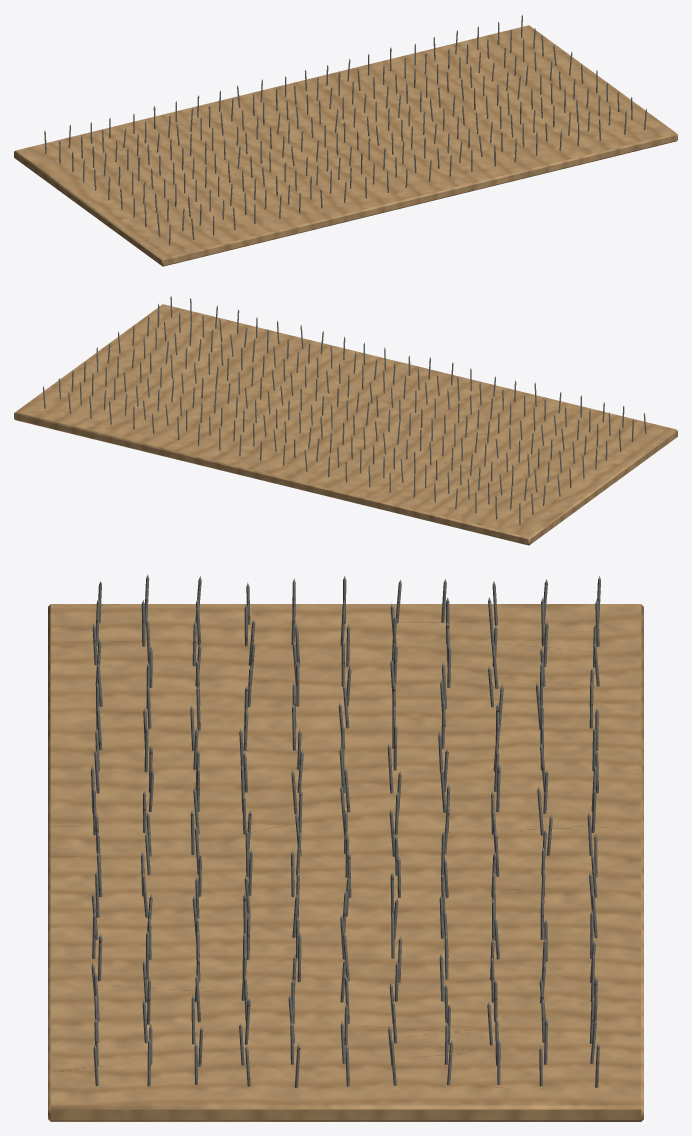
File: bed_of_nails.glb
3 renders of one model, top to bottom at view 1: azimuth 30°, elevation 25°; view 2: azimuth 150°, elevation 25°; view 3: azimuth 270°, elevation 25°, orthographic. The views are drawn at different scales.
Visible parts, largest first — view 1: BedOfNails_Clean_board, BedOfNails_Clean_nails; view 2: BedOfNails_Clean_board, BedOfNails_Clean_nails; view 3: BedOfNails_Clean_board, BedOfNails_Clean_nails.
Part boxes in pixels (<box>): BedOfNails_Clean_board: <box>14,25,677,266</box>; BedOfNails_Clean_nails: <box>44,15,646,245</box>; BedOfNails_Clean_board: <box>14,304,677,545</box>; BedOfNails_Clean_nails: <box>43,296,646,524</box>; BedOfNails_Clean_board: <box>48,604,643,1121</box>; BedOfNails_Clean_nails: <box>91,574,600,1087</box>.
Size of the model in its own units: 1.2 by 0.0729 by 0.6.
Materials: 2 (2 with a texture image).
